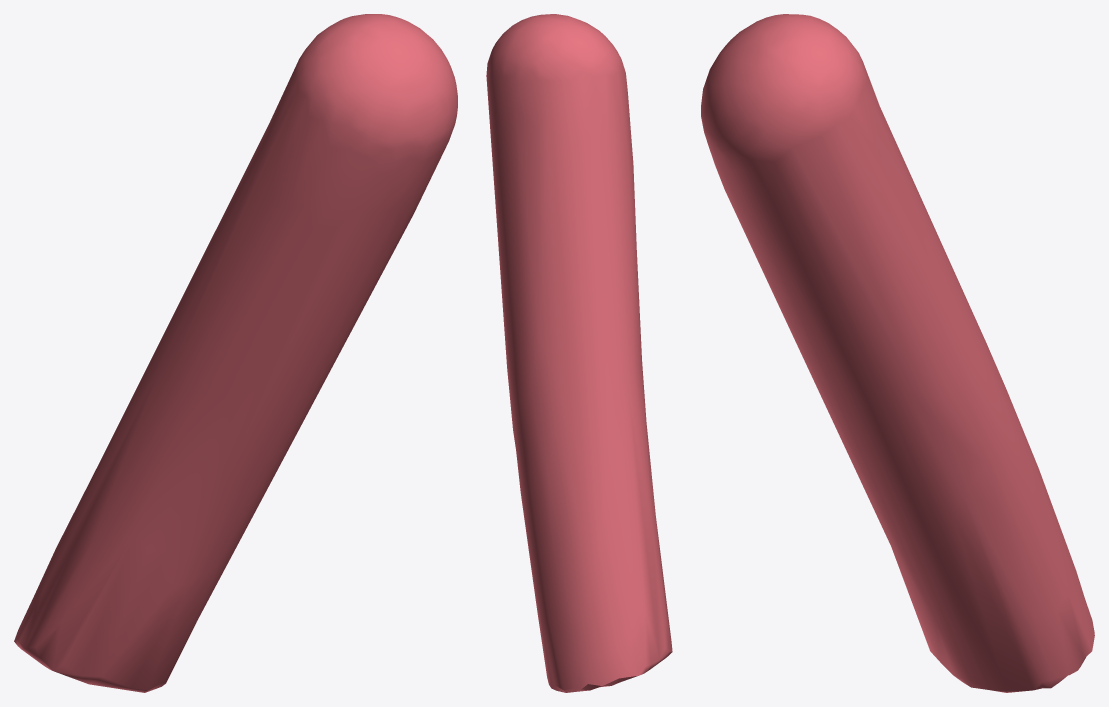
File: fma21387.glb
3 renders of one model, left to right at view 1: azimuth 30°, elevation 25°; view 2: azimuth 150°, elevation 25°; view 3: azimuth 270°, elevation 25°, orthographic. The views are drawn at different scales.
Parts seen in each view (by area): view 1: FMA21387; view 2: FMA21387; view 3: FMA21387.
Boxes of the visible parts, left/top/right/bottom form: FMA21387: left=14, top=14, right=457, bottom=692; FMA21387: left=486, top=14, right=672, bottom=692; FMA21387: left=701, top=14, right=1094, bottom=692.
Size of the model in its own units: 0.0296 by 0.0632 by 0.031.
